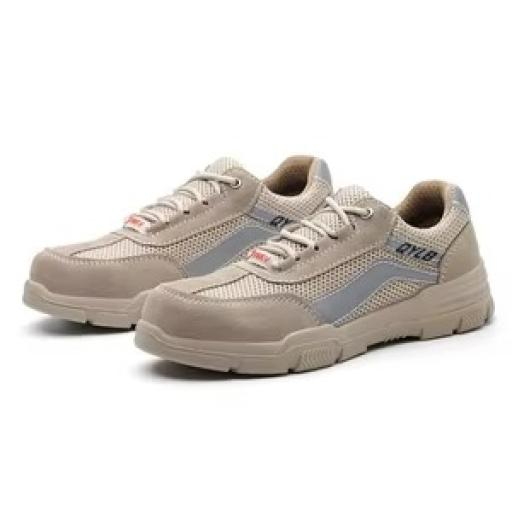safety_boots: (14, 154, 495, 376)
